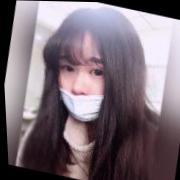WRONG: (46, 42, 126, 129)
